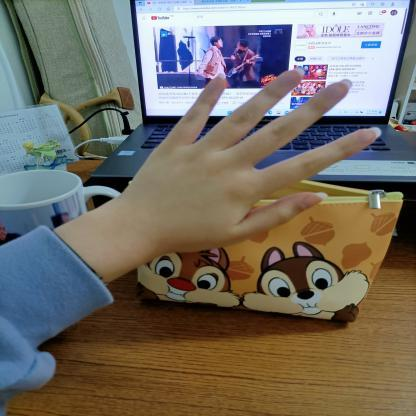bare_hand: (112, 58, 398, 264)
